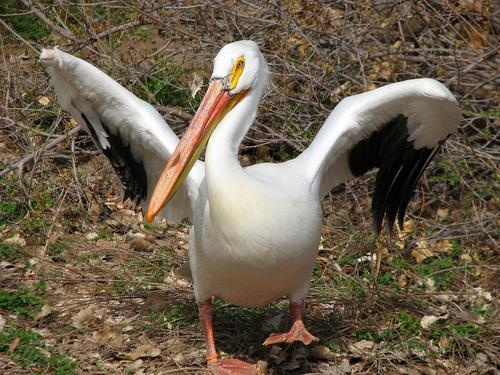bird: (38, 38, 461, 375)
